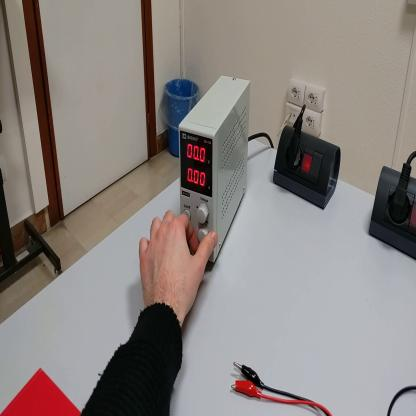hand: (139, 211, 218, 319)
power supply: (179, 76, 251, 265)
register: (1, 364, 83, 414)
socket: (270, 121, 342, 211), (367, 158, 415, 260)
